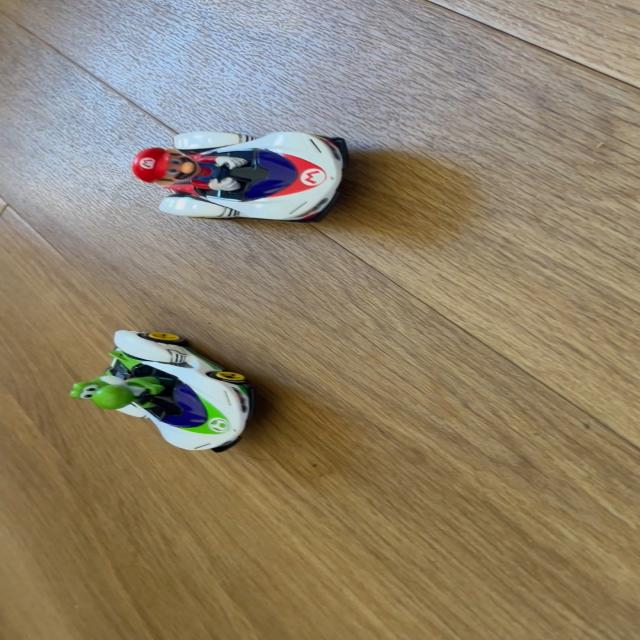mario: (130, 125, 360, 228)
yoshi: (59, 320, 269, 459)
